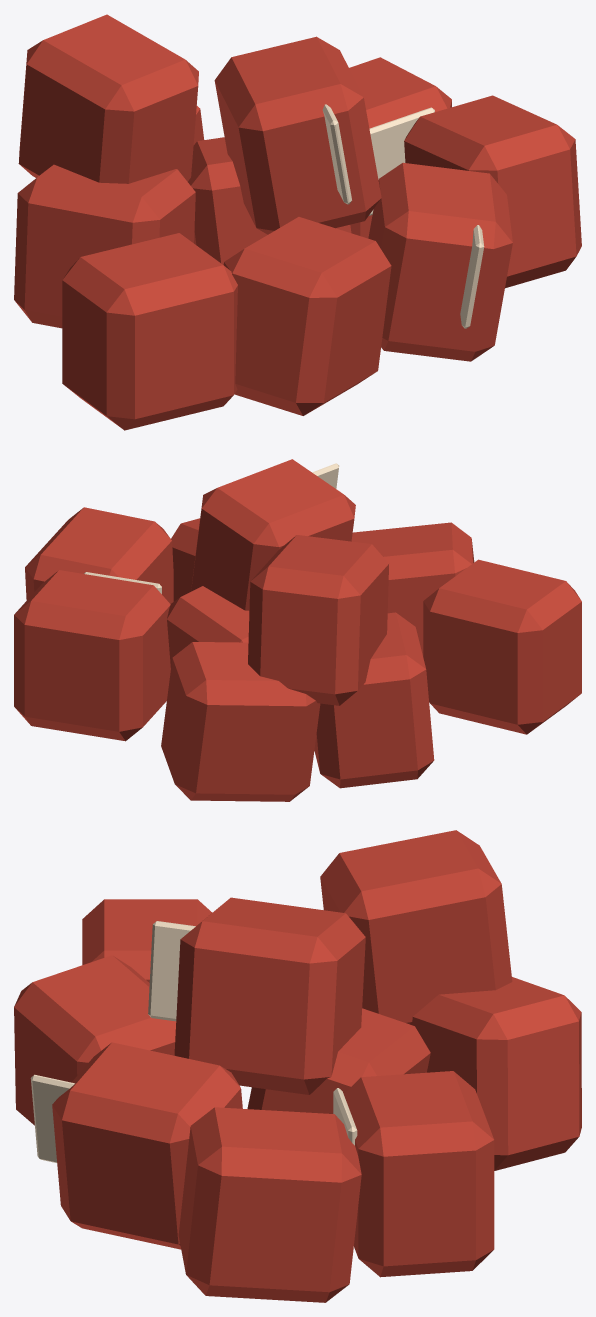
Rendered from FTF_Ingredient_ChoppedBeef.glb.
3 renders of one model, top to bottom at view 1: azimuth 30°, elevation 25°; view 2: azimuth 150°, elevation 25°; view 3: azimuth 270°, elevation 25°, orthographic. The views are drawn at different scales.
Parts seen in each view (by area): view 1: FTF_Ingredient_ChoppedBeef_StaticMesh; view 2: FTF_Ingredient_ChoppedBeef_StaticMesh; view 3: FTF_Ingredient_ChoppedBeef_StaticMesh.
Part boxes in pixels (x1,y1,x2,y2): FTF_Ingredient_ChoppedBeef_StaticMesh: (14,14,581,430); FTF_Ingredient_ChoppedBeef_StaticMesh: (14,459,581,801); FTF_Ingredient_ChoppedBeef_StaticMesh: (14,830,581,1302).
Bounding box in the file's own units: 0.7005 × 0.3301 × 0.6196.
